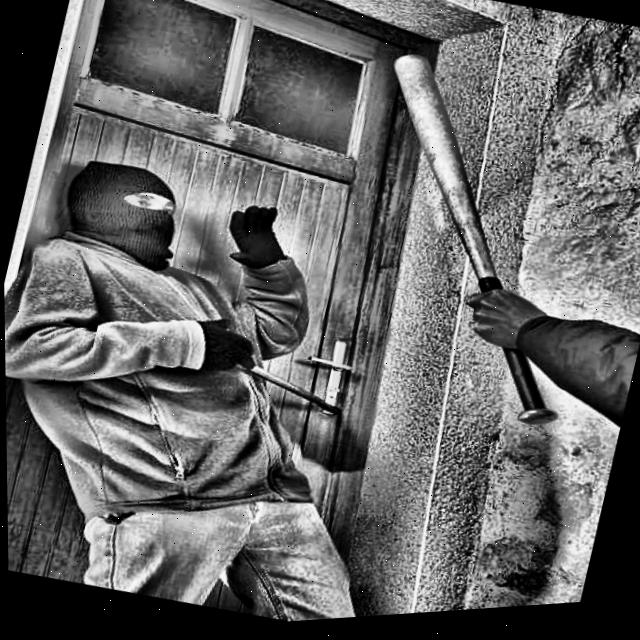robbery: (4, 132, 370, 620)
tongkat pemukul: (368, 45, 570, 432)
